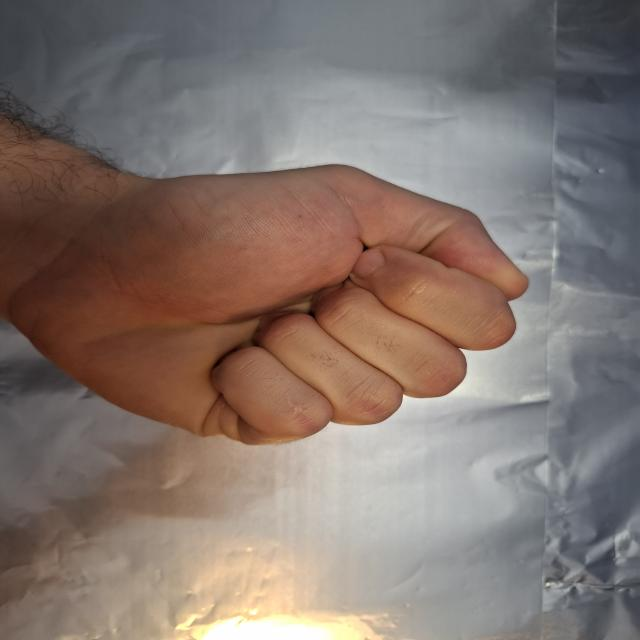glove_off: (22, 117, 540, 450)
